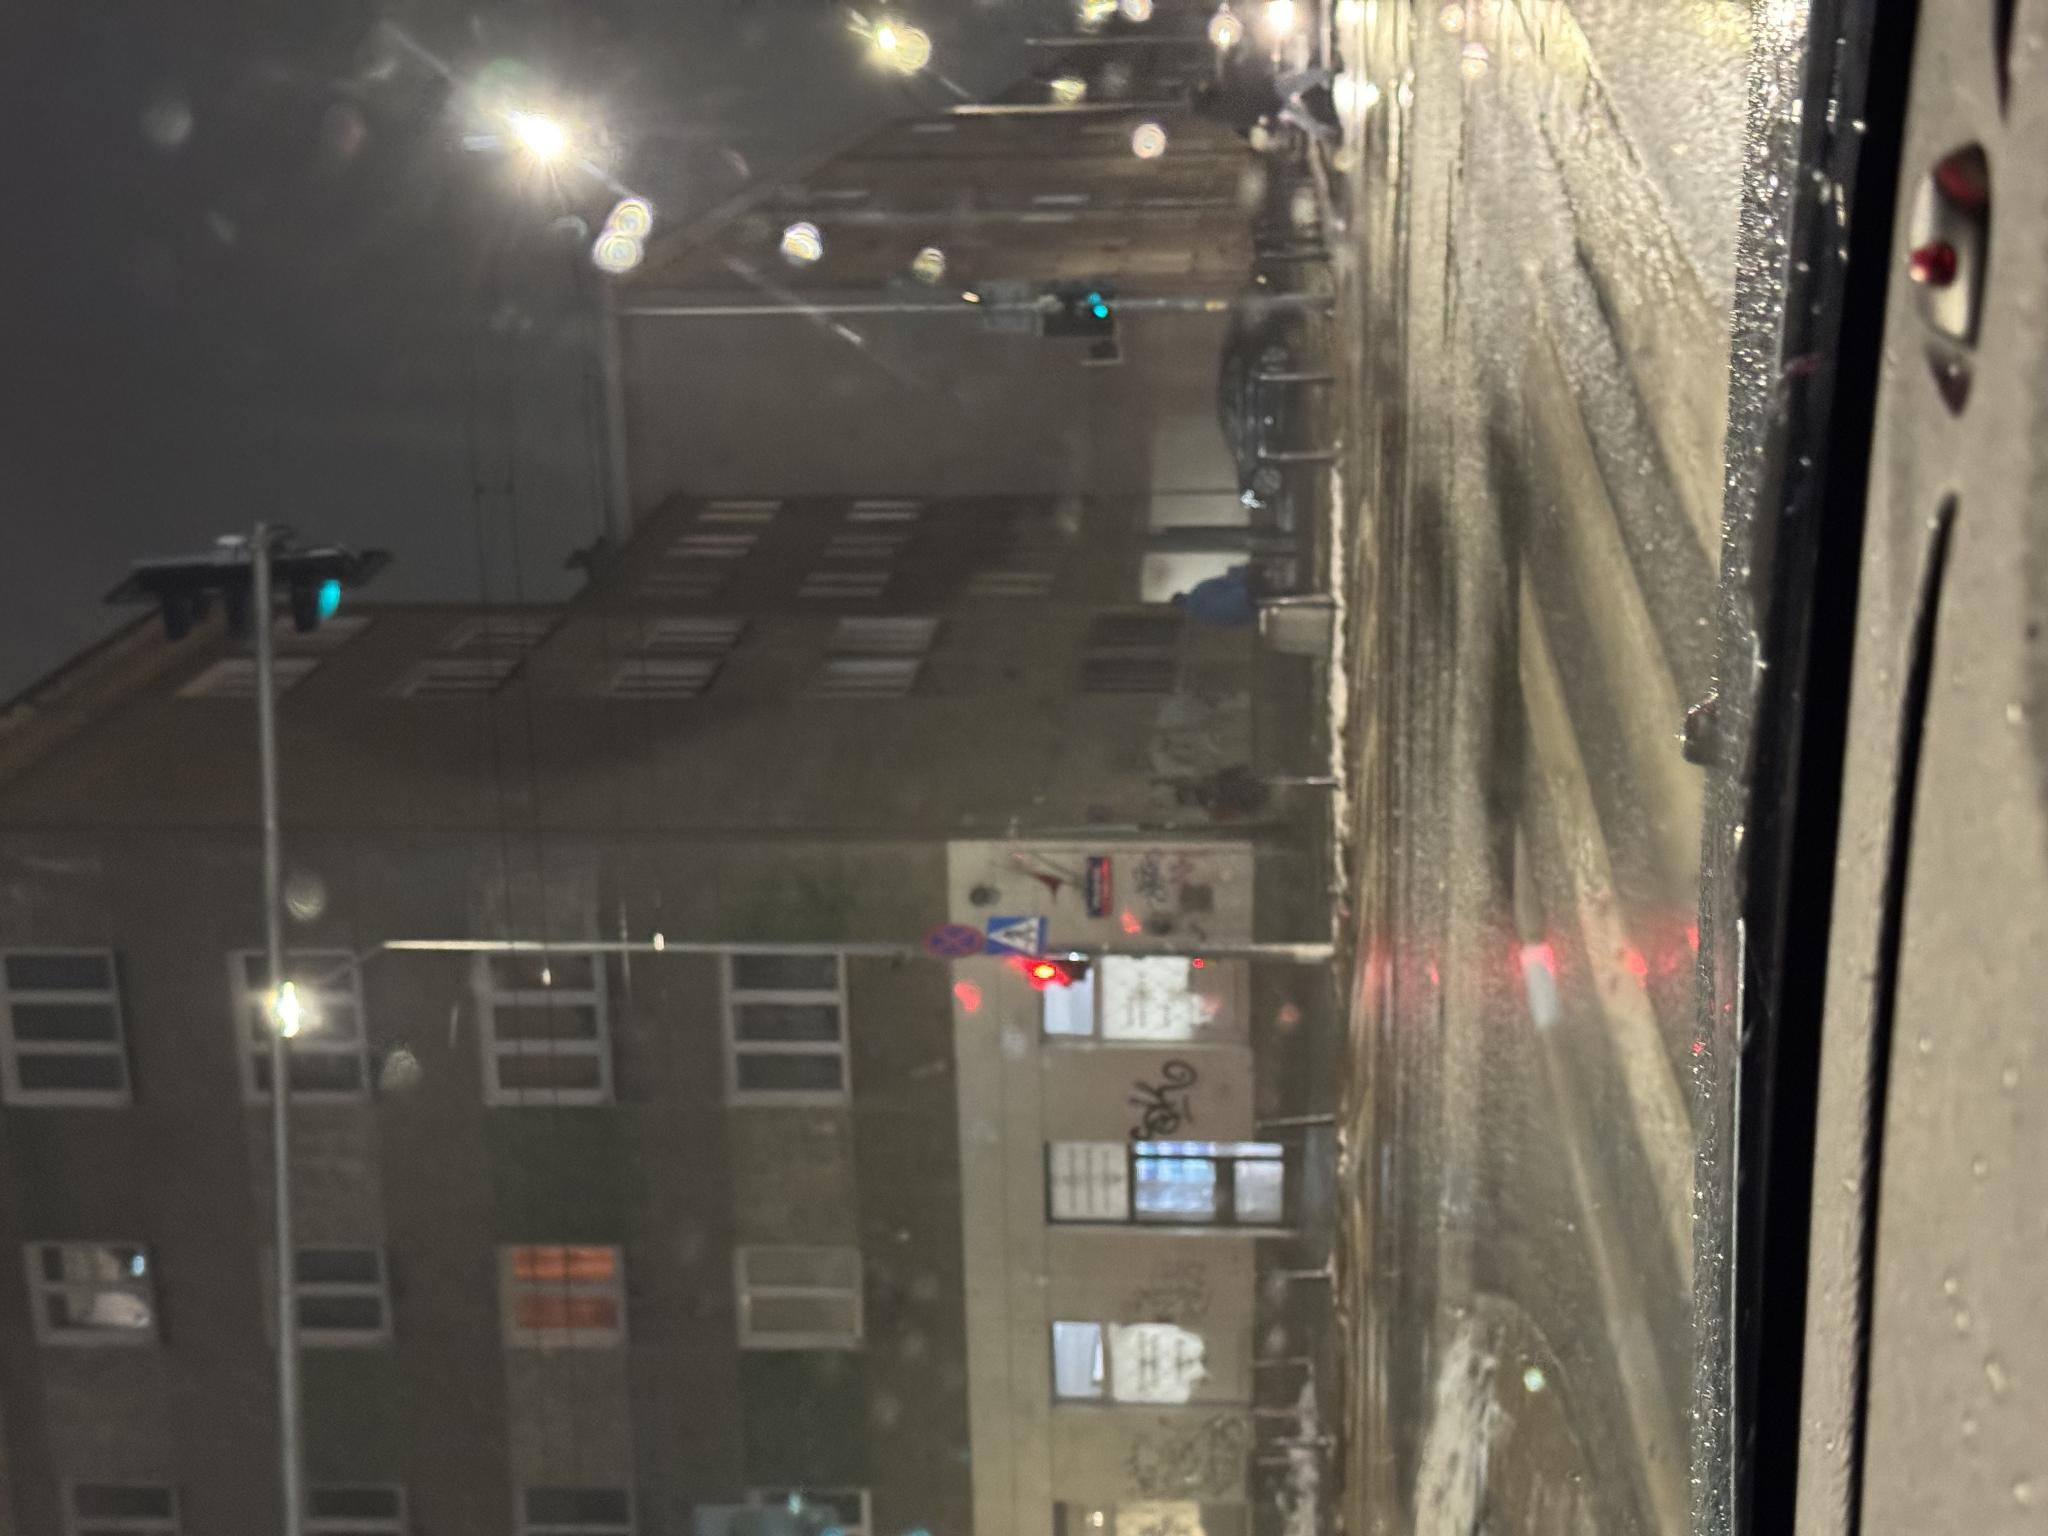information: (579, 984, 621, 1046)
prohibitory: (576, 921, 613, 983)
